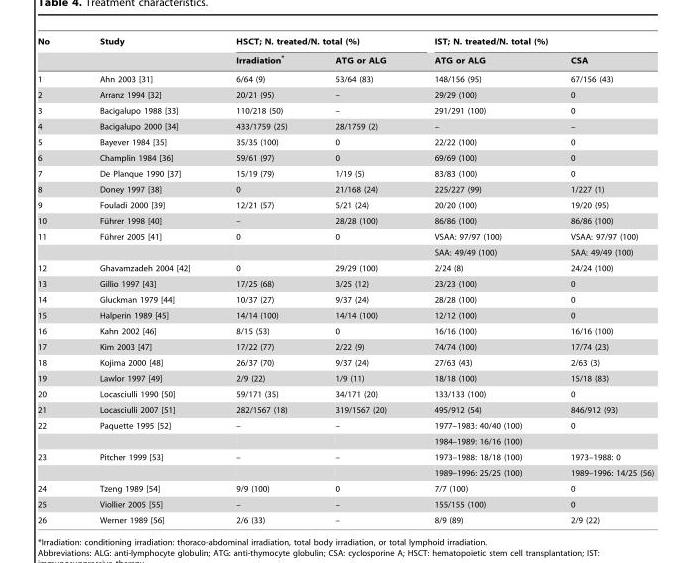table: (37, 36, 653, 524)
table column: (74, 36, 212, 524), (409, 36, 545, 524), (545, 36, 653, 524), (310, 36, 409, 524), (212, 36, 310, 524), (37, 36, 74, 524)
table column header: (37, 36, 653, 69)
table row: (37, 49, 653, 69), (37, 69, 653, 86), (37, 86, 653, 102), (37, 102, 653, 118), (37, 118, 653, 134), (37, 149, 653, 165), (37, 165, 653, 181), (37, 181, 653, 197), (37, 212, 653, 228), (37, 228, 653, 244), (37, 244, 653, 260), (37, 275, 653, 291), (37, 291, 653, 307), (37, 307, 653, 323), (37, 338, 653, 354), (37, 354, 653, 370), (37, 370, 653, 386), (37, 401, 653, 417), (37, 417, 653, 433), (37, 433, 653, 449), (37, 464, 653, 480), (37, 480, 653, 496), (37, 496, 653, 512), (37, 134, 653, 149), (37, 197, 653, 212), (37, 260, 653, 275), (37, 323, 653, 338), (37, 386, 653, 401), (37, 449, 653, 464), (37, 36, 653, 49), (37, 512, 653, 524)
table spanning cell: (74, 36, 212, 69), (409, 36, 653, 49), (212, 36, 409, 49), (37, 36, 74, 69), (37, 228, 74, 260), (37, 417, 74, 449), (37, 449, 74, 480)
